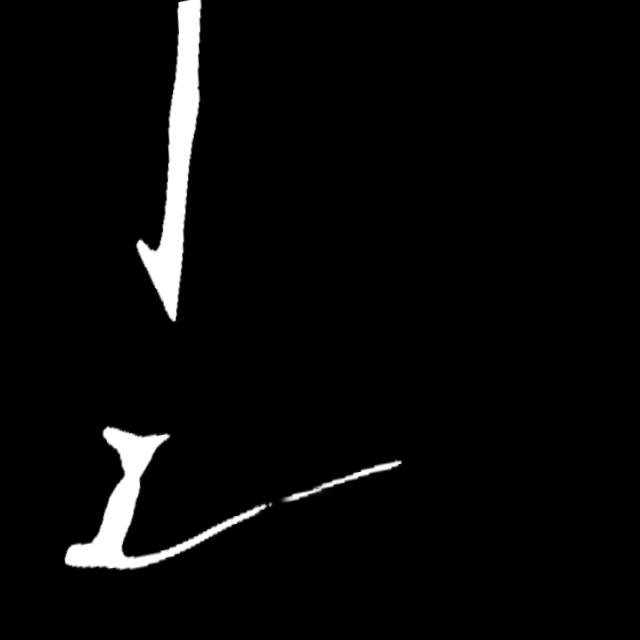inf: (266, 492, 302, 523)
